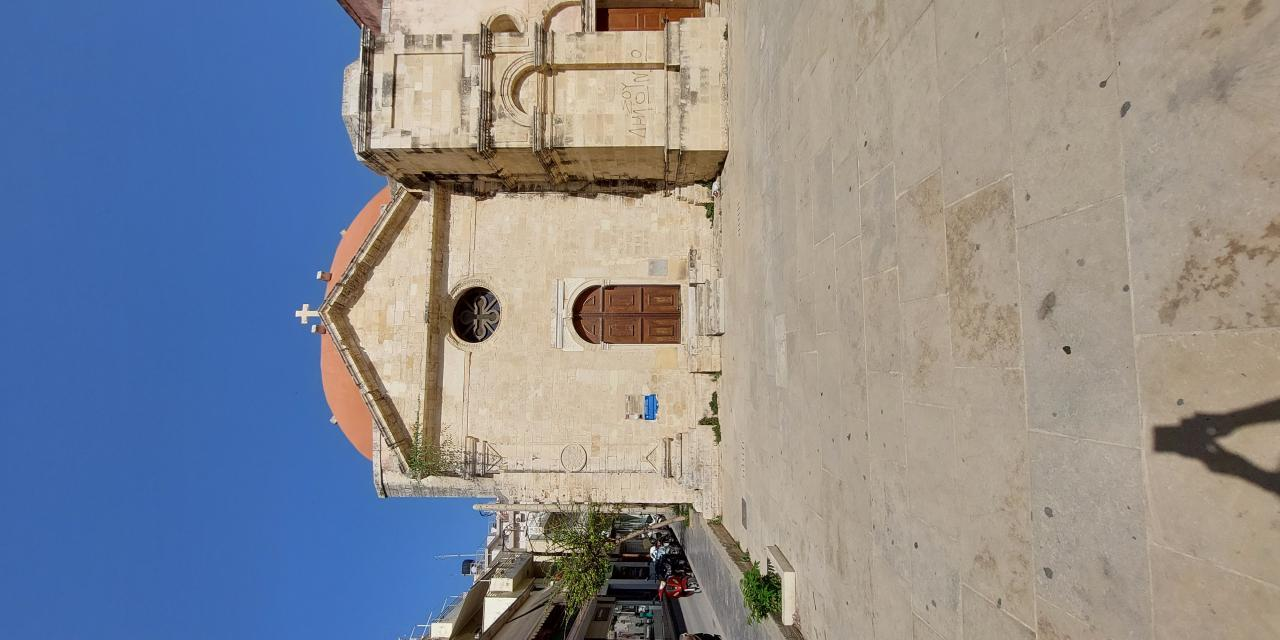Agia Aikaterini: (119, 322, 572, 640)
